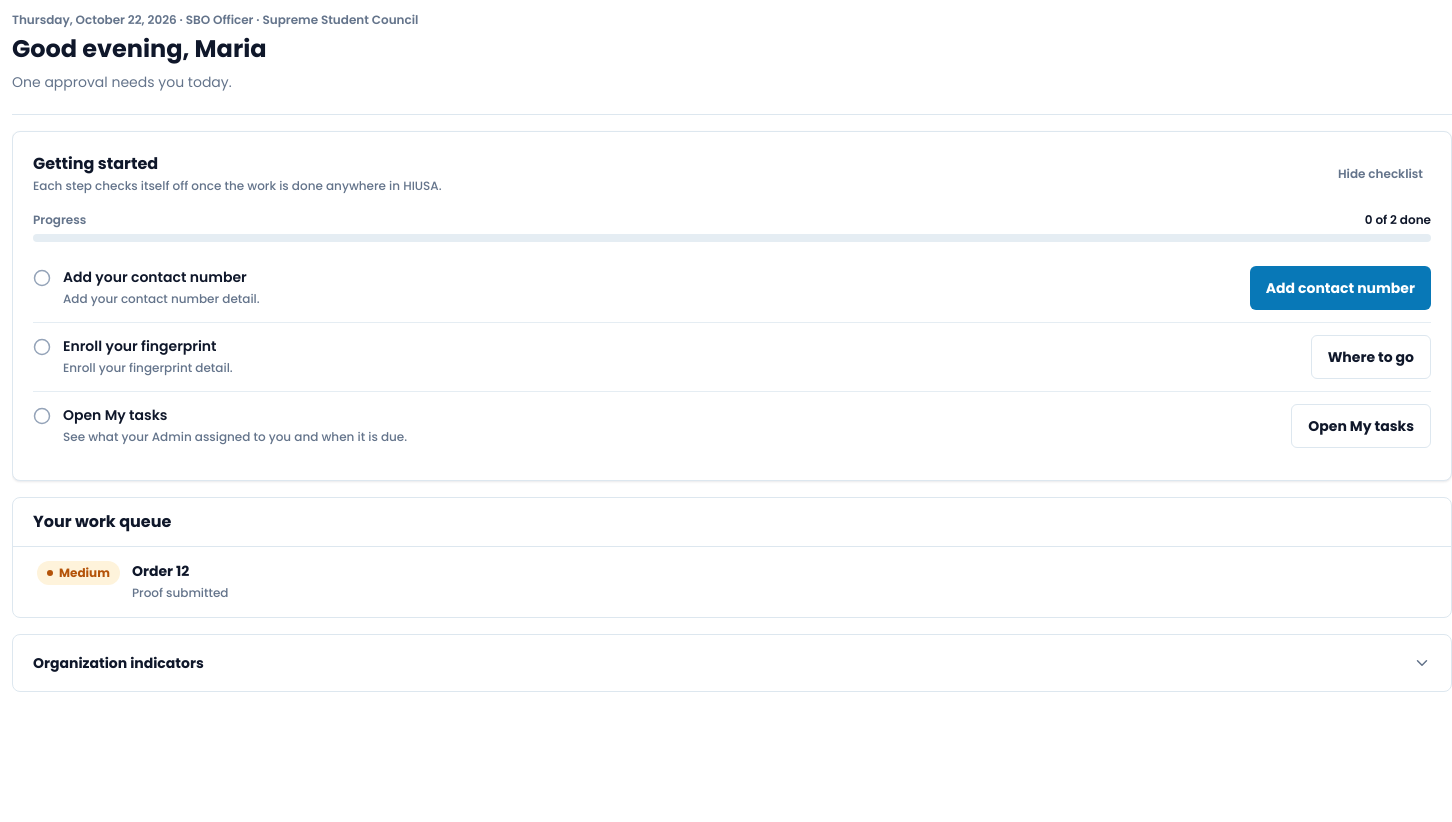
Scenario: RoleBriefing › first screen per role › SBO_OFFICER: work queue, then contact number, fingerprint in person, My tasks
The image size is (1452, 822).
Expected: the heading "Your work queue" is shown, x1=13 y1=498 x2=1451 y2=547
Expected: the text "SBO Officer" is shown, x1=186 y1=11 x2=254 y2=28
Click the button "Where to go" at (1371, 357), box x1=1311 y1=335 x2=1431 y2=379
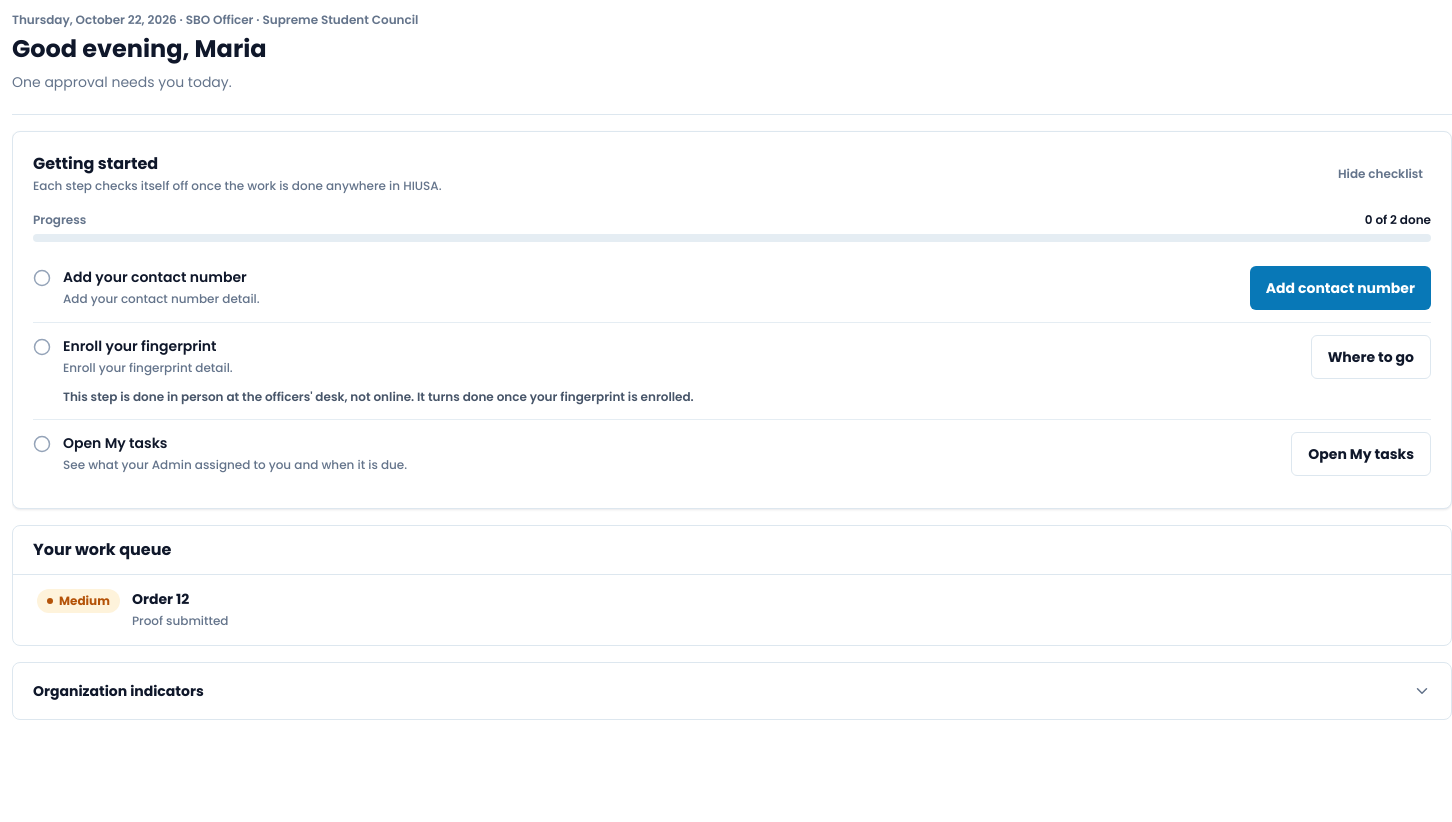
Expected: the element "Getting started" shows "0 of 2 done", x1=1365 y1=211 x2=1431 y2=228
Result: the text "done in person at the officers' desk" is shown at x1=63 y1=388 x2=694 y2=405
